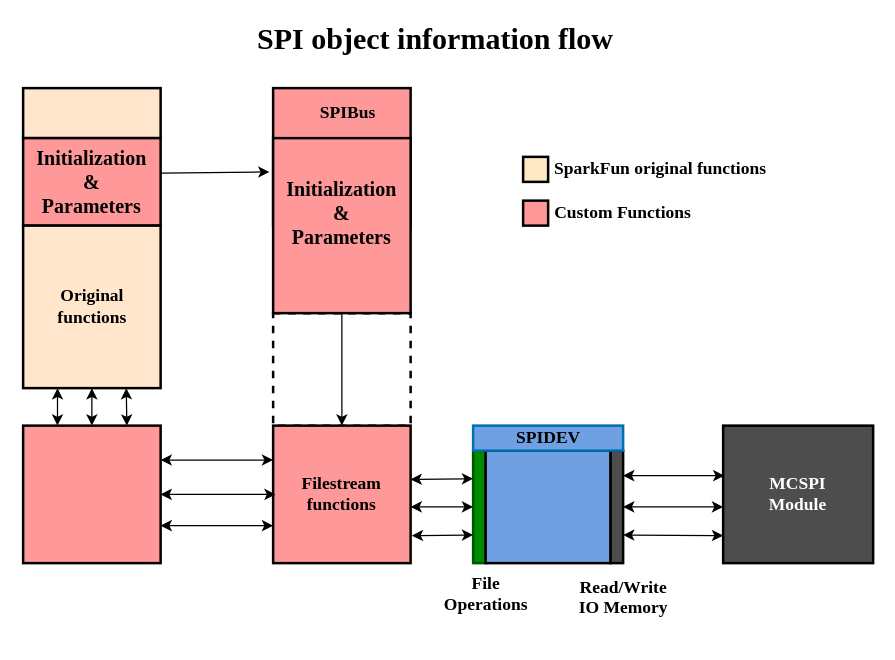
This 895x660 diagram has some shape labels left out. Here are the shapes that lost their labels. From the top down, the centre of each, then its label:
At pixel 91 112: "LSM9DS1".
At pixel 91 494: "BBB/Project functions".
At pixel 547 506: "Functions".
